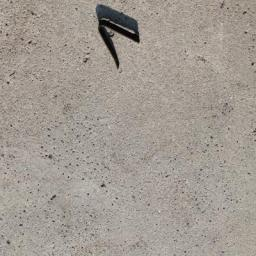FOD: (96, 4, 144, 73)
